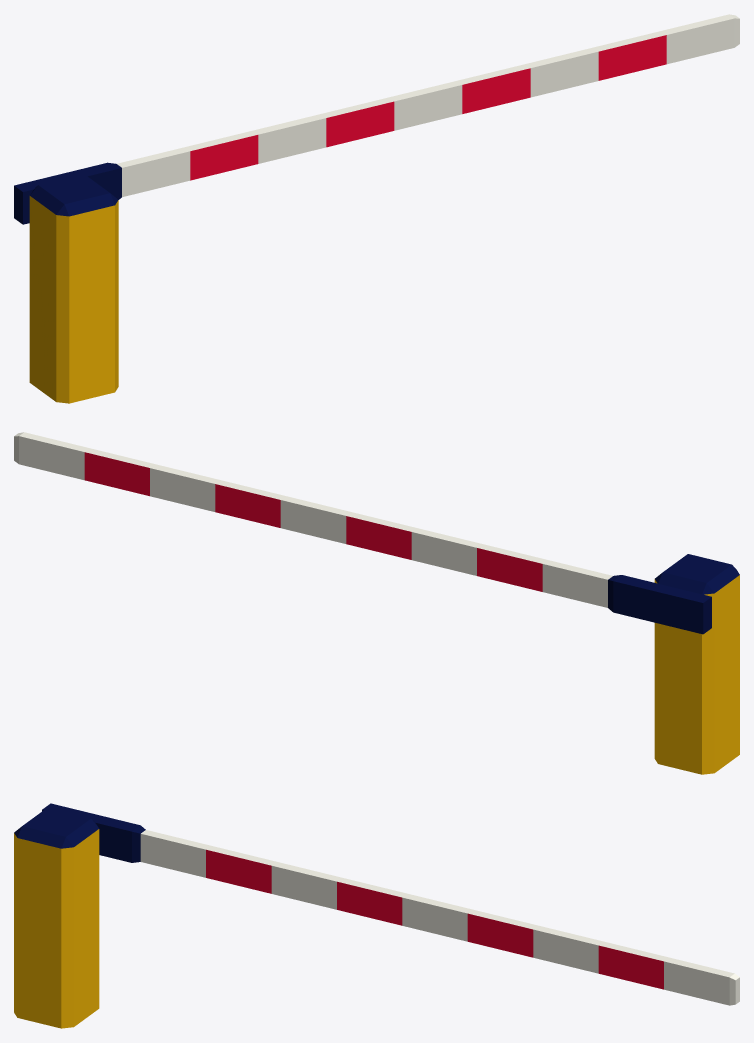
The model's file is GamesE_E03_PlumaAcceso.fbx.
3 renders of one model, top to bottom at view 1: azimuth 30°, elevation 25°; view 2: azimuth 150°, elevation 25°; view 3: azimuth 330°, elevation 25°, orthographic. The views are drawn at different scales.
Parts seen in each view (by area): view 1: Pluma, Pluma Pilar; view 2: Pluma, Pluma Pilar; view 3: Pluma, Pluma Pilar.
Boxes of the visible parts, x1,y1,x2,y2 form: Pluma: (14,14,739,224); Pluma Pilar: (29,174,118,403); Pluma: (14,432,711,634); Pluma Pilar: (654,554,739,774); Pluma: (42,803,739,1005); Pluma Pilar: (14,807,99,1028).
Size of the model in its own units: 2.88 by 0.3125 by 0.75.
